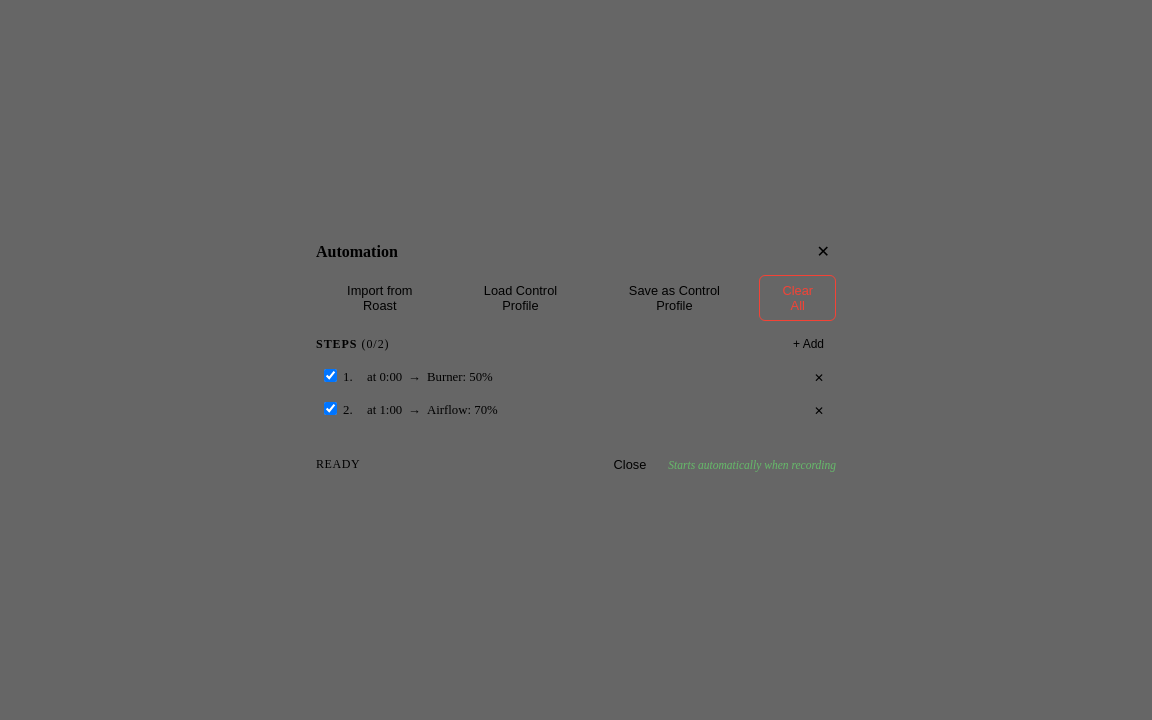
Test: SchedulerDialog › opens save view on Save click
The image size is (1152, 720).
Click the button "Save as Control Profile" at [674, 298], box 597,275 -> 752,321
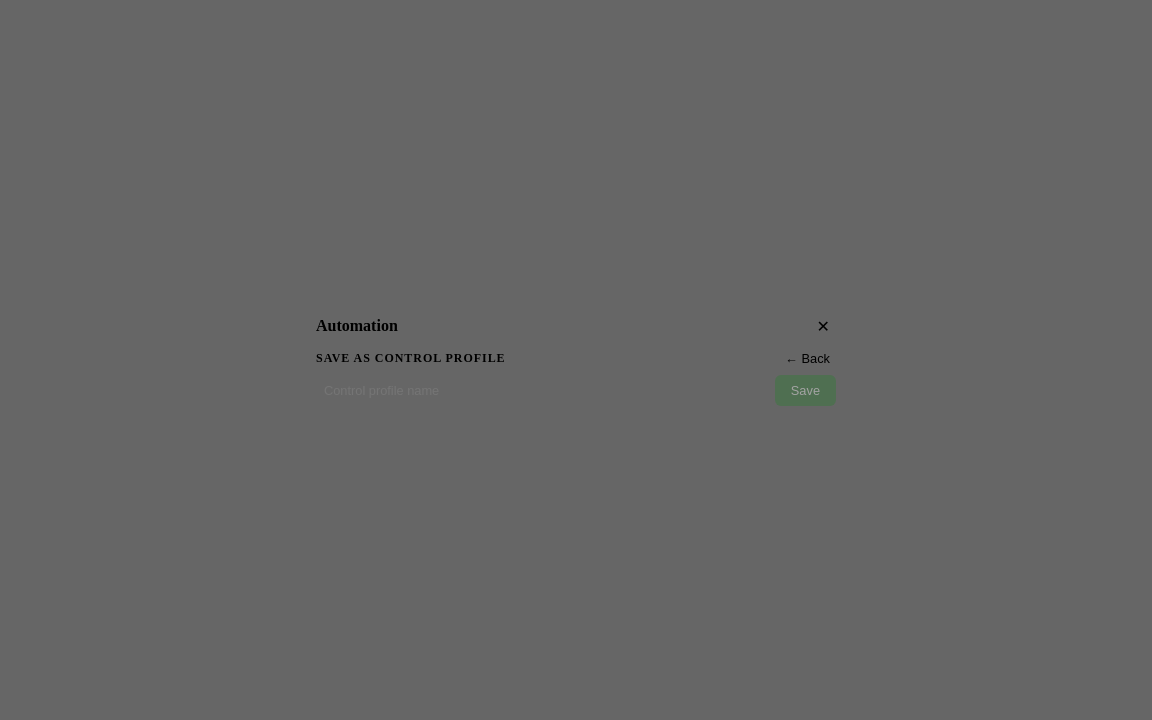
Check: the heading "Save as Control Profile" is shown, box 316,350 -> 506,366
